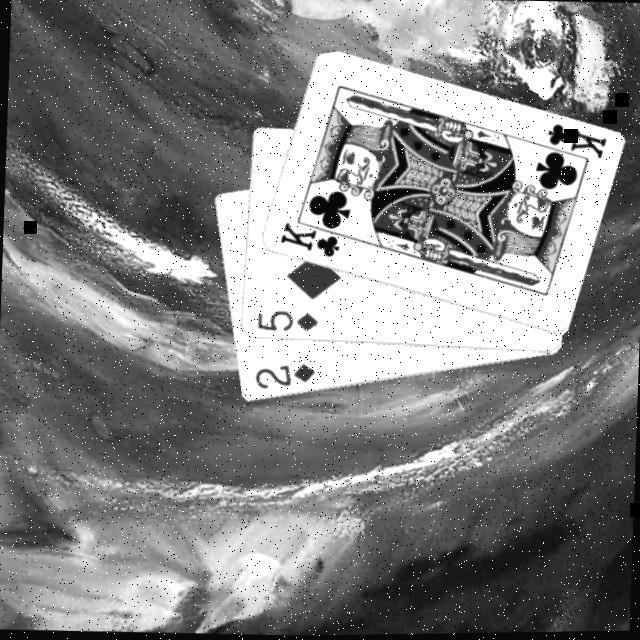2D: (253, 358, 320, 393)
5D: (256, 305, 323, 335)
KC: (534, 118, 611, 166), (278, 213, 354, 261)
